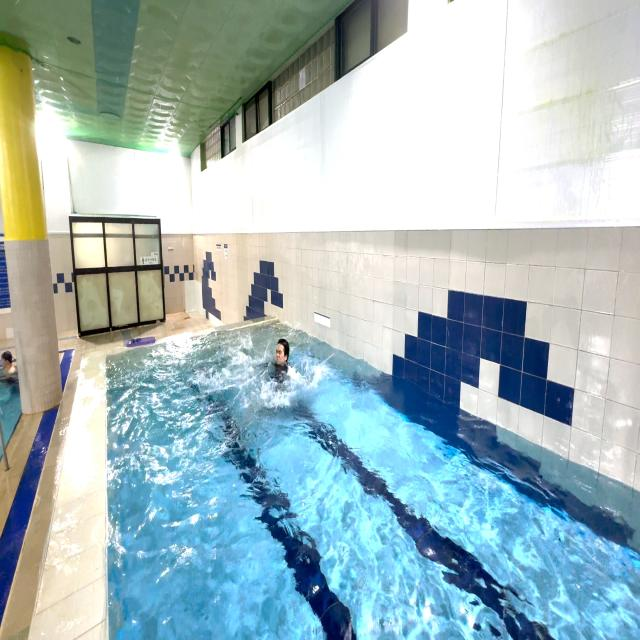Drowning: (218, 328, 328, 413)
